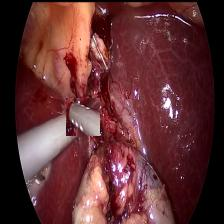Irrigator: (65, 97, 99, 135)
